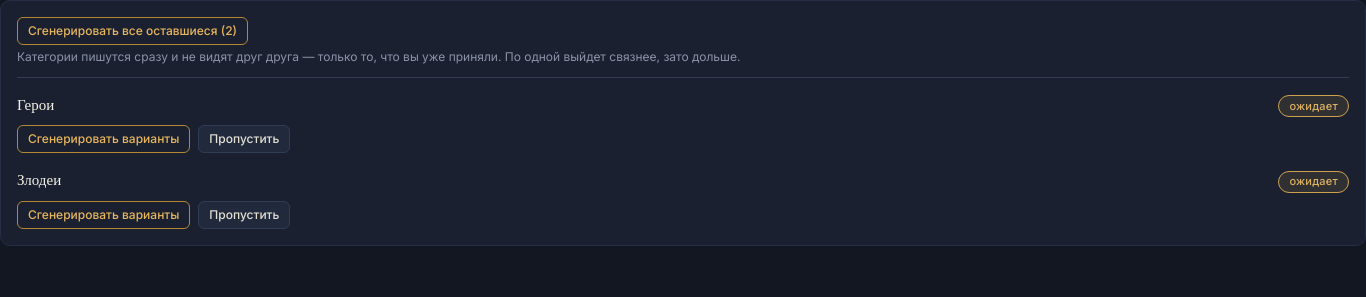
Scenario: EntityStageRunner — пакет при конфликте записи (F18 ревью 2026-09-22) › на 409 кладёт пачку на свежий этап и не трогает раздел, изменённый в другом месте
Step 1. Click the button "Сгенерировать все оставшиеся (2)" → (132, 31), box [17,17,248,45]
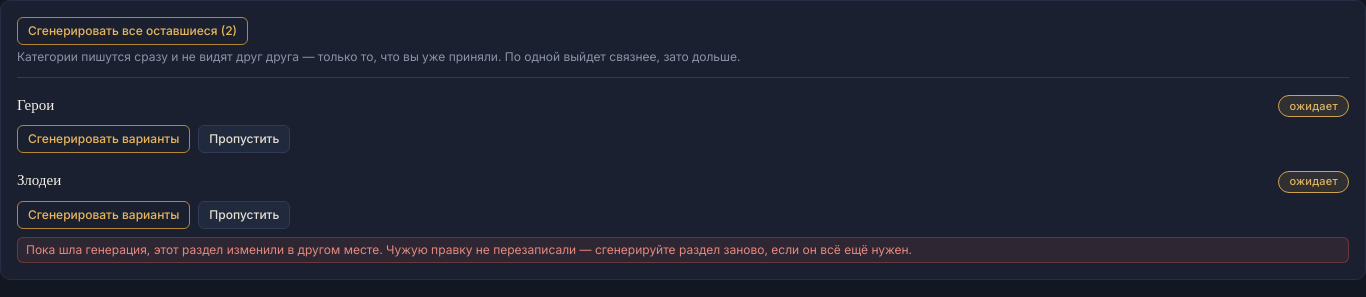
Check: the text "Чужую правку не перезаписали" is shown, box [26,242,912,256]
